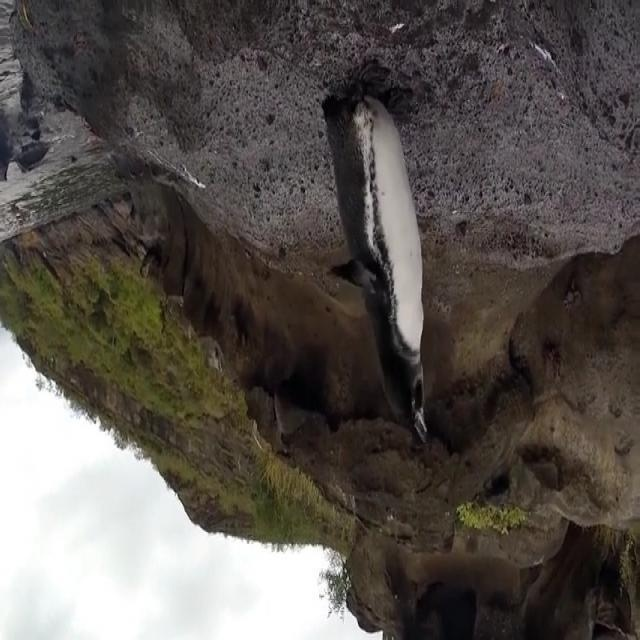penguin: (322, 60, 430, 441)
